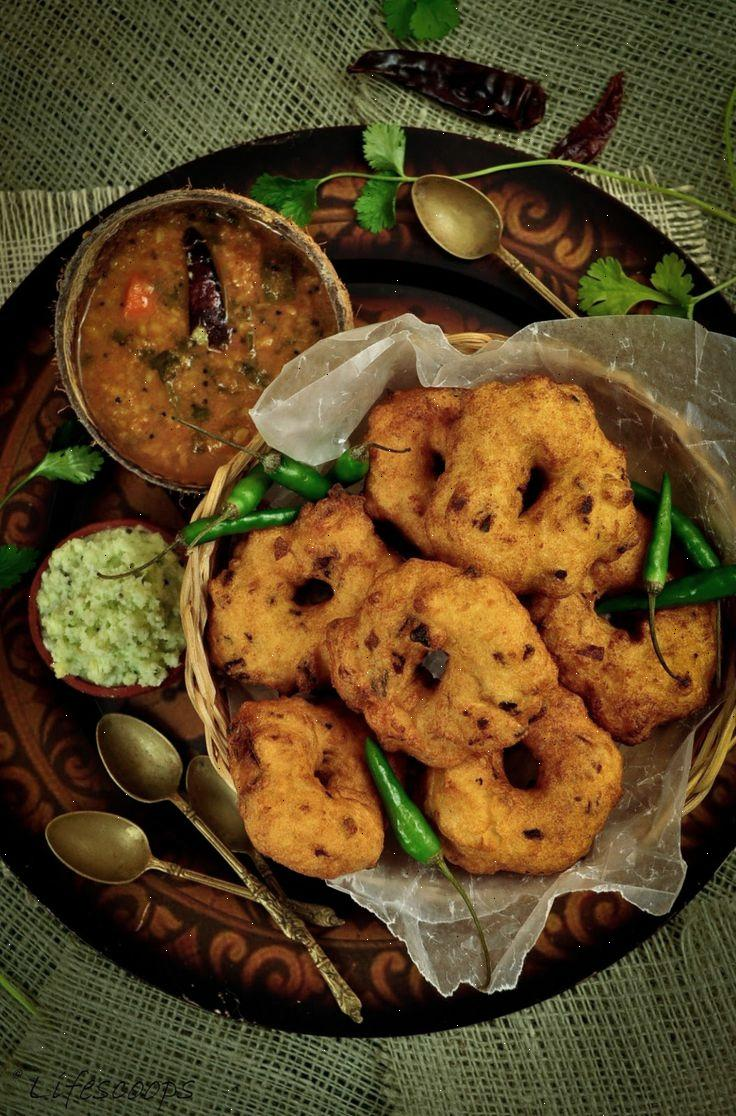coconut chutney: (32, 537, 204, 697)
medu vada: (247, 422, 727, 900)
sambhar: (63, 219, 348, 474)
